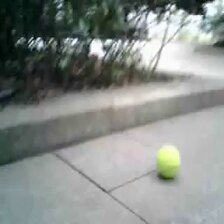tennis: (154, 144, 181, 177)
